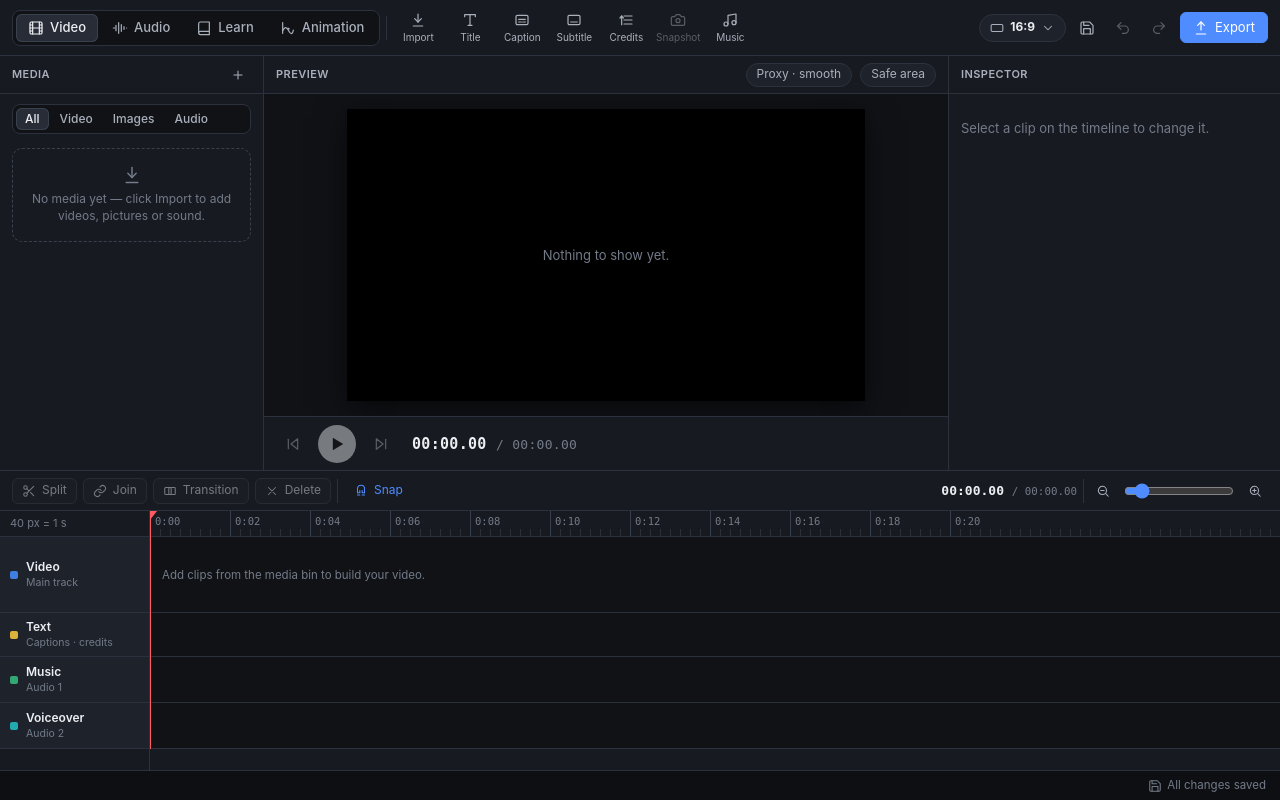
Scenario: the export dialog (AN15, T7) › Export opens it with MP4 chosen, the four formats, and the frames, length and size
Click the button "Animation": (322, 28) [268,14,376,42]
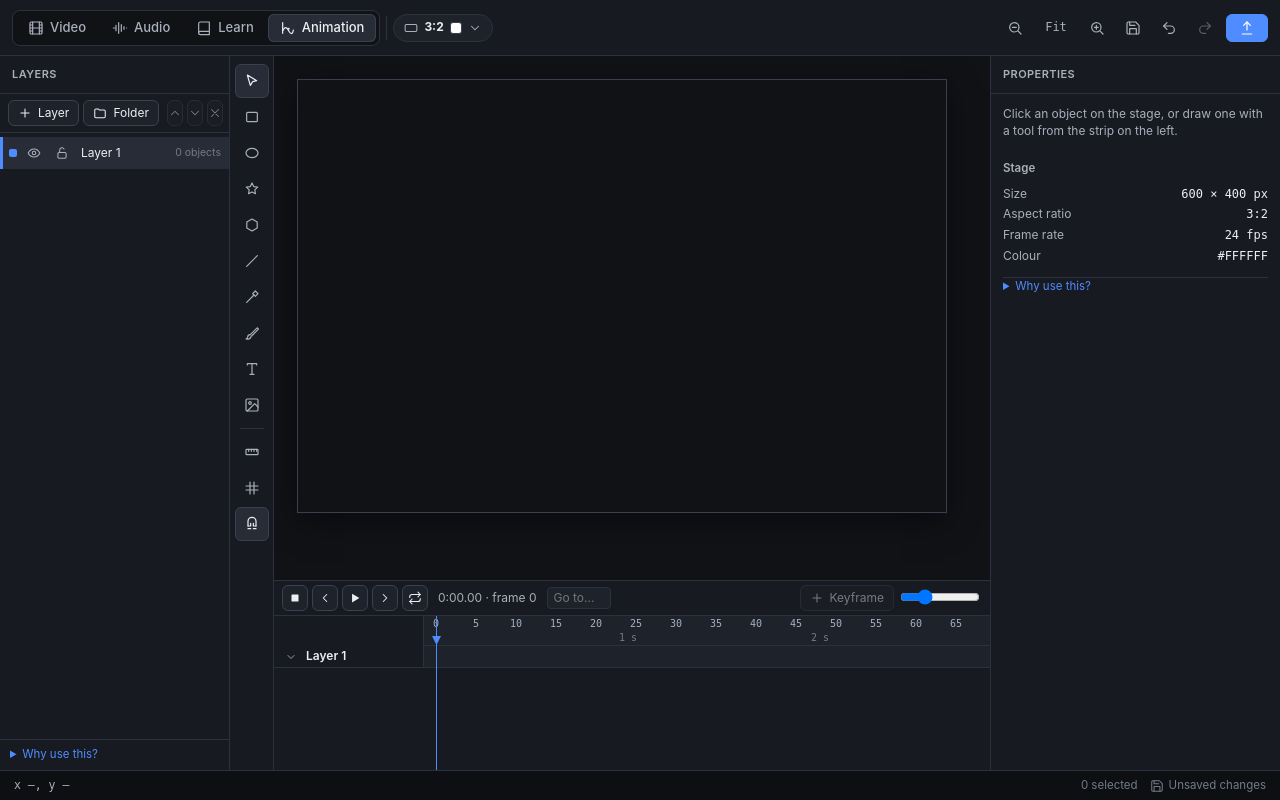
Click the button named "Export": (1247, 28) [1226,14,1268,42]
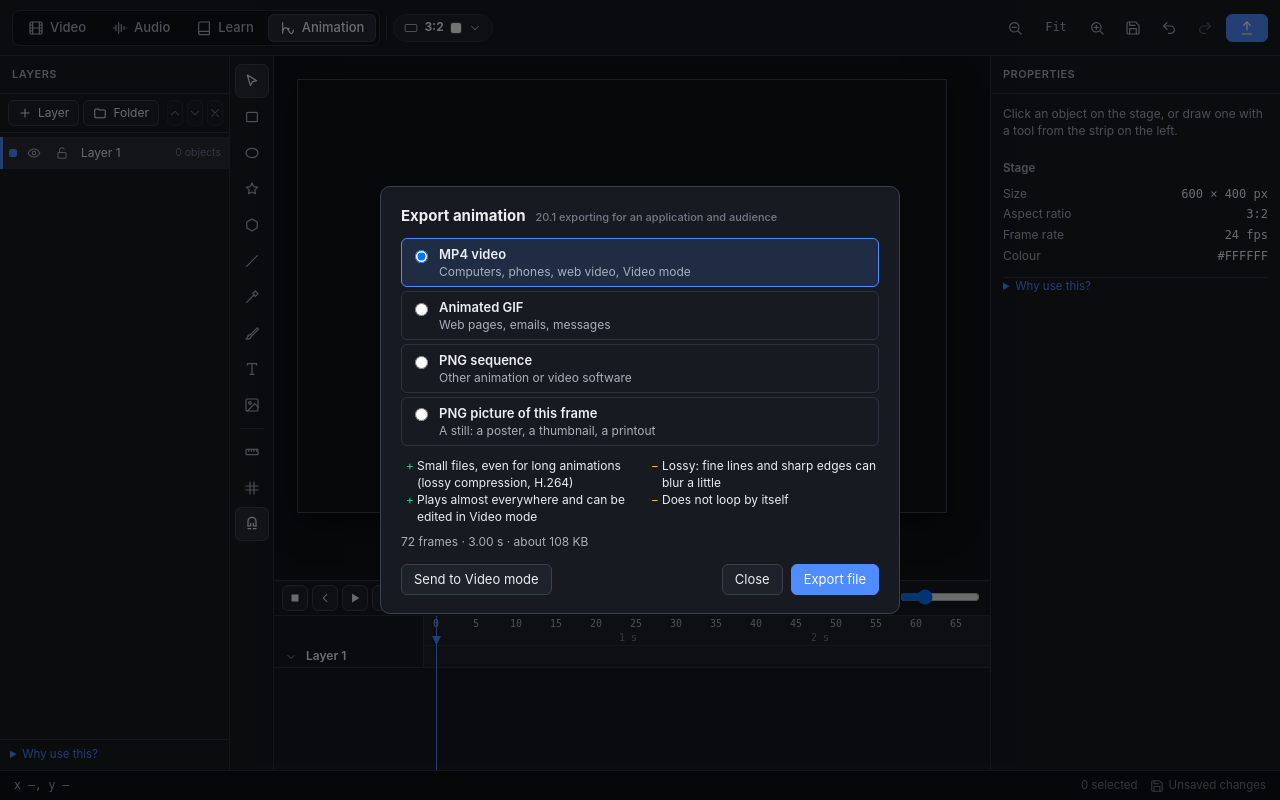
Expected: the radio button labelled "Animated GIF Web pages, emails, messages" is shown, [415,302,428,316]
Expected: the radio button labelled "PNG sequence Other animation or video software" is shown, [415,356,428,368]
Expected: the radio button labelled "PNG picture of this frame" is shown, [415,408,428,422]
